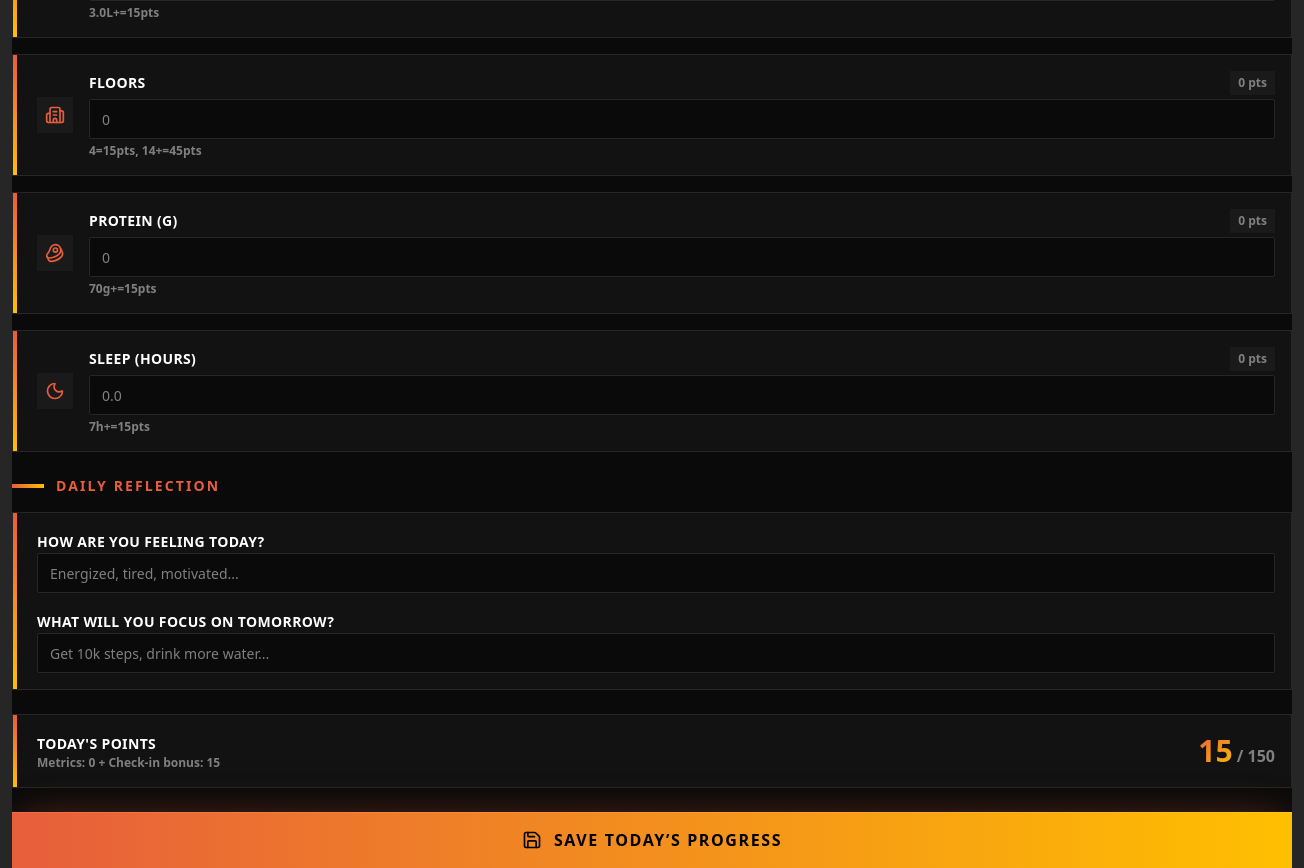
Test case: TodaysTasks › handleInputChange › resets save state when modifying input after error
The image size is (1304, 868).
(page scrolled)
// Save — will error
Click the button "Save Today’s Progress".
click(652, 840)  # box [12,812,1292,867]
(page scrolled)
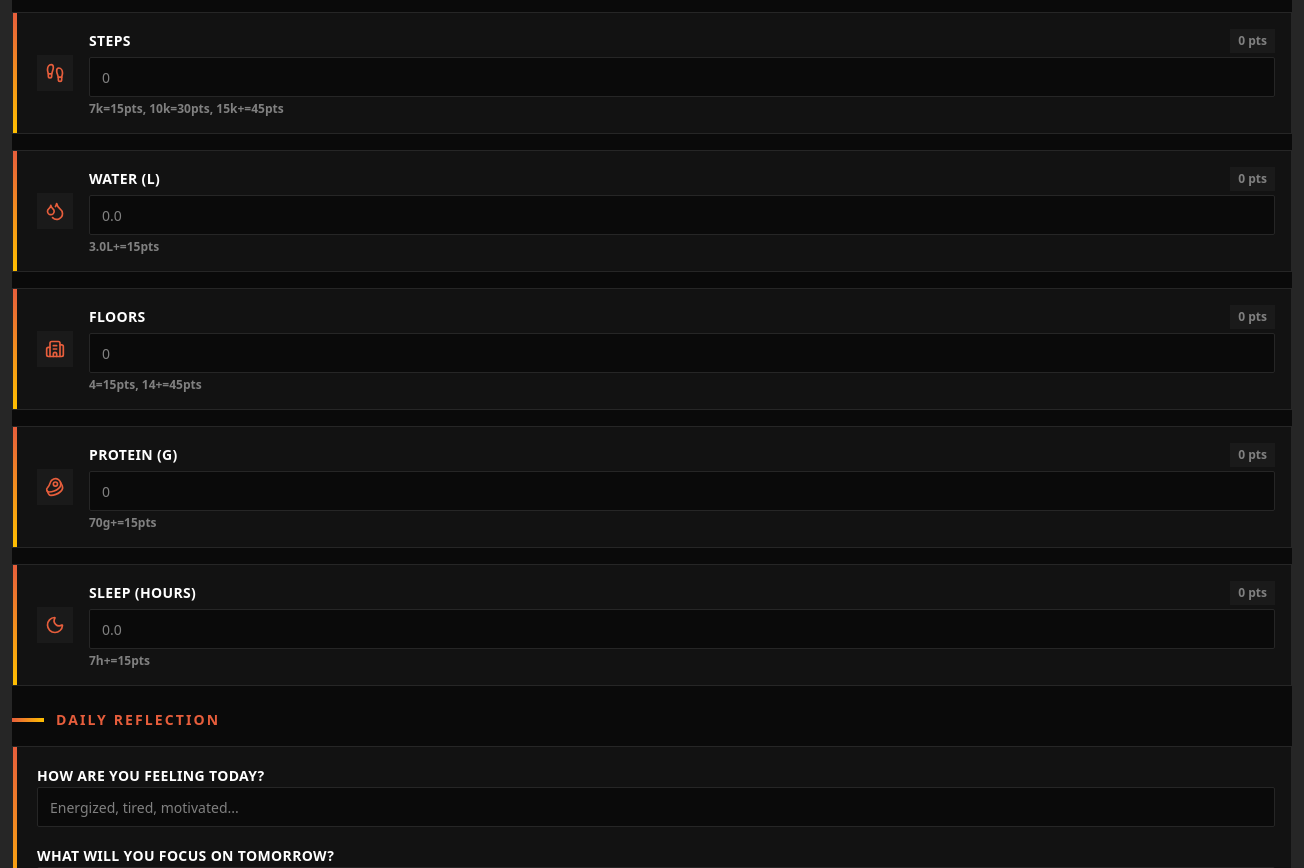
// Now modify an input — should reset save state
Type "3.5" into the number field labelled "Water (L)".
click(682, 215); type("3.5")  # box [89,195,1275,235]
(page scrolled)
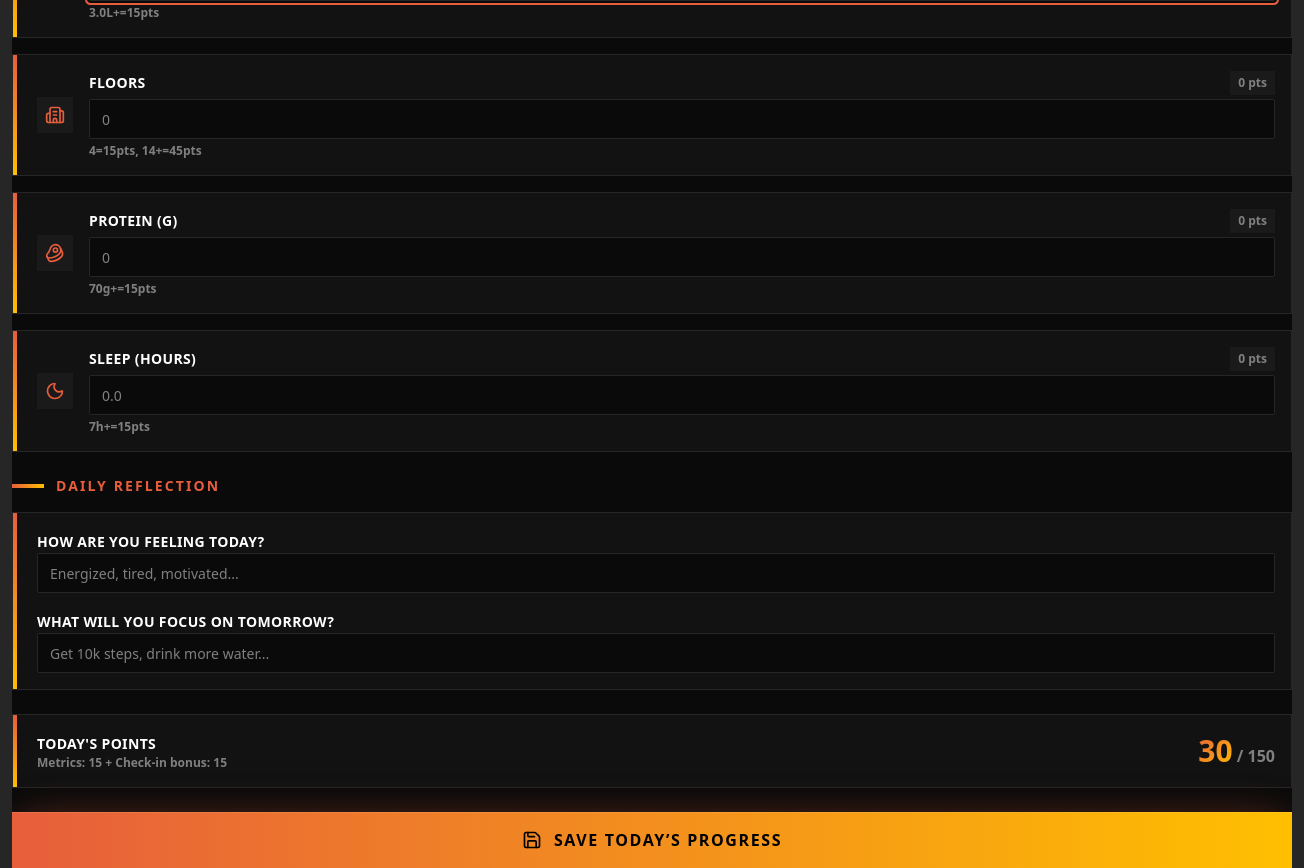
expect the button "Save Today’s Progress" is shown: met, box [12,812,1292,867]
